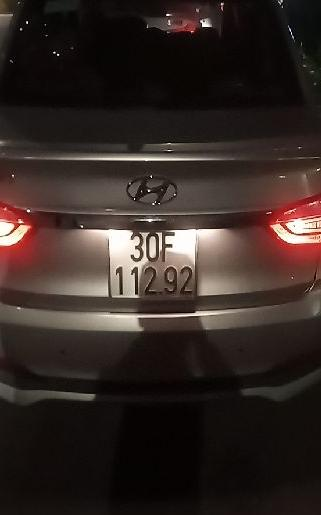Plate-iWeP: (111, 228, 198, 299)
